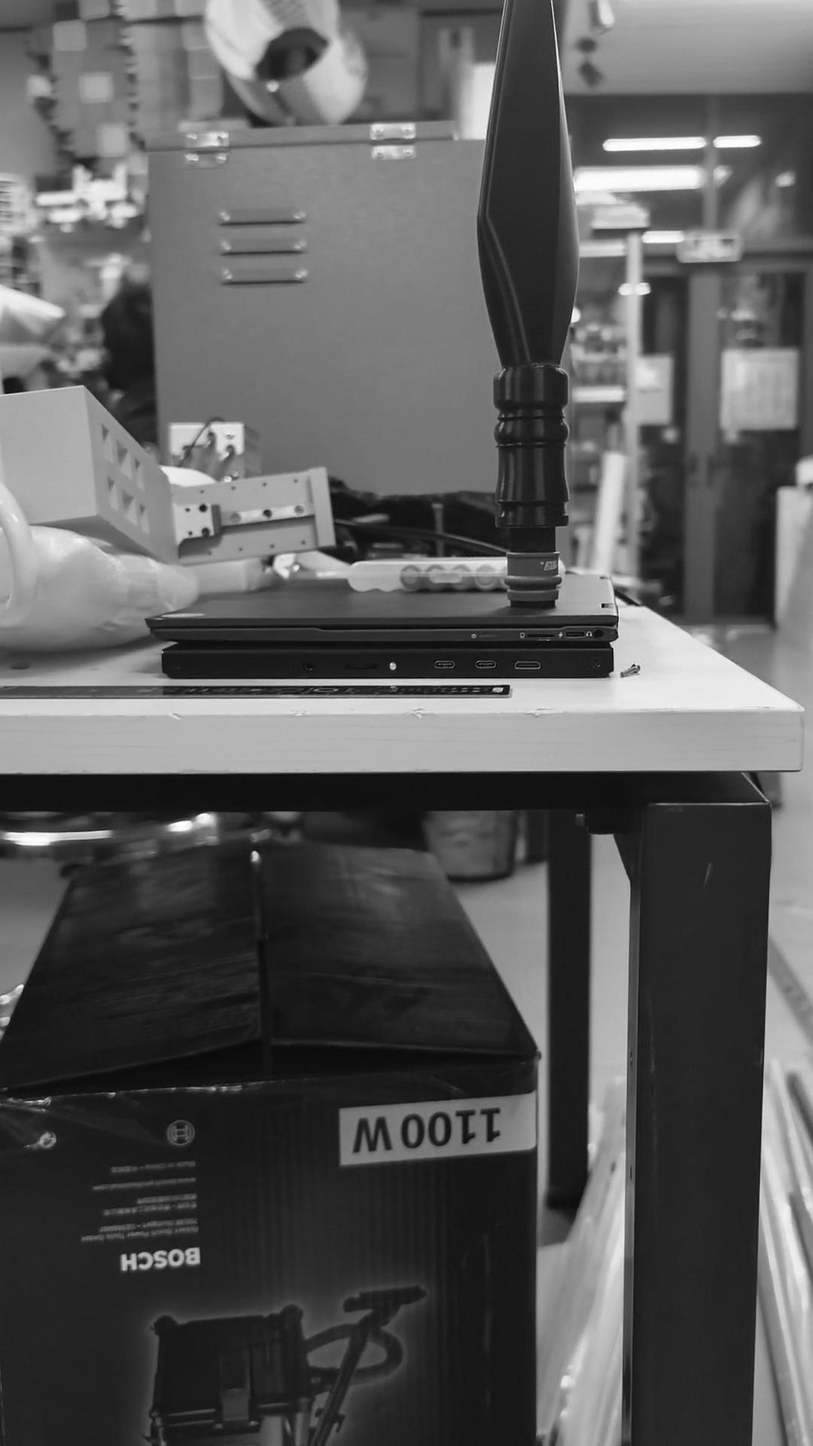base: (497, 548, 563, 627)
